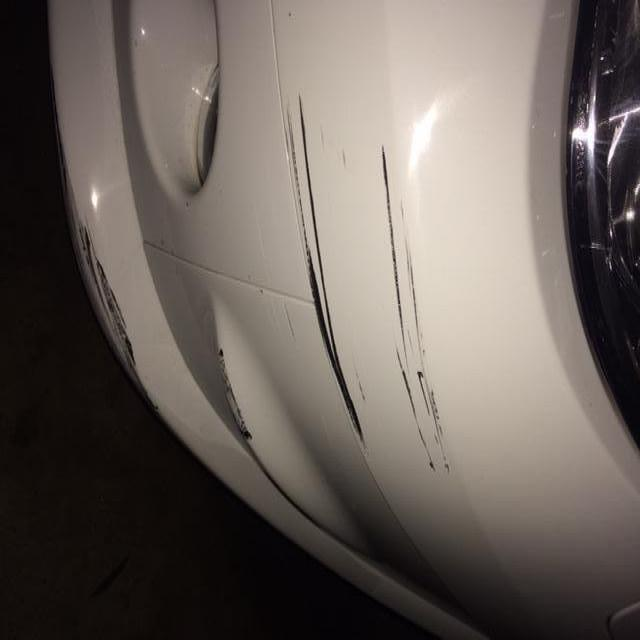scratch: (202, 86, 464, 514), (61, 198, 146, 404)
